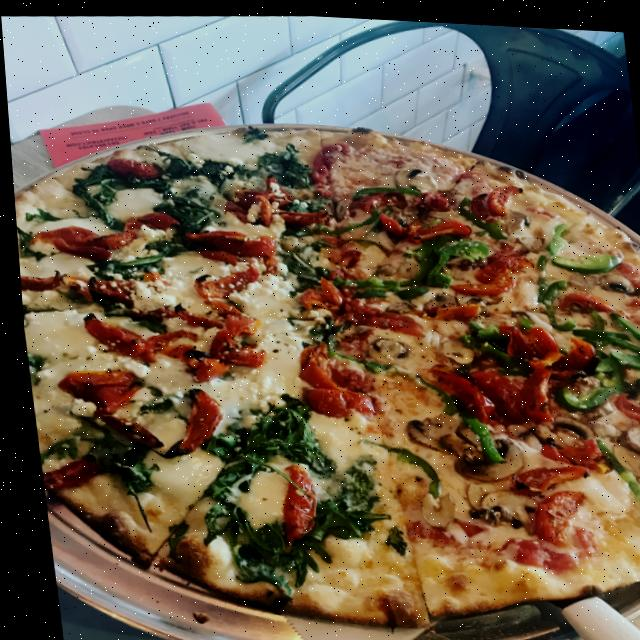mushrooms: (451, 469, 544, 529), (436, 425, 524, 482), (398, 401, 469, 459), (519, 405, 590, 443), (355, 326, 409, 363), (411, 484, 451, 529), (388, 155, 436, 191), (591, 262, 638, 294), (504, 205, 542, 242), (432, 328, 471, 361), (612, 409, 640, 454), (413, 283, 451, 310), (494, 202, 528, 231), (584, 408, 618, 436), (327, 185, 349, 219), (379, 295, 410, 313), (624, 383, 640, 403)
pizza: (5, 93, 640, 640)
tomatoes: (290, 262, 421, 341), (426, 354, 554, 425), (138, 321, 266, 384), (491, 309, 595, 378), (291, 337, 373, 418), (153, 381, 229, 457), (24, 219, 135, 268), (49, 363, 137, 421), (157, 291, 262, 337), (170, 222, 276, 267), (218, 169, 295, 224), (520, 477, 582, 545), (265, 460, 314, 545), (442, 244, 521, 296), (74, 304, 142, 363), (377, 203, 470, 242), (185, 256, 260, 304), (497, 453, 583, 491), (466, 174, 523, 218), (269, 196, 329, 231), (533, 431, 598, 462), (554, 279, 611, 311), (105, 150, 158, 184), (602, 377, 640, 424), (117, 206, 172, 236), (483, 236, 533, 267), (407, 178, 452, 212), (429, 296, 477, 320), (16, 269, 57, 295)
